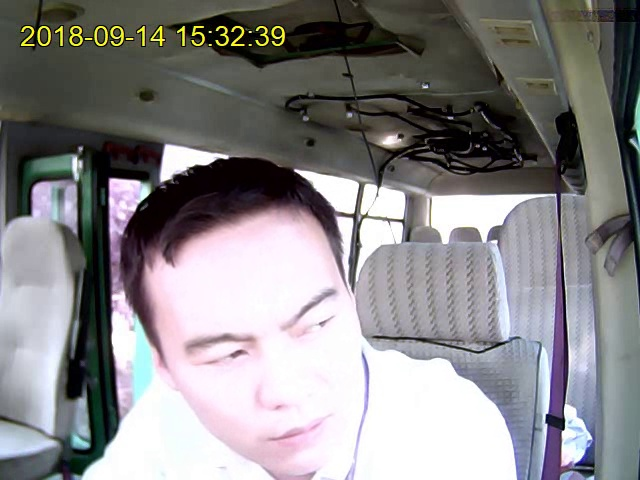closed_mouth: (267, 414, 331, 448)
open_eye: (200, 348, 249, 368), (297, 314, 337, 336)
